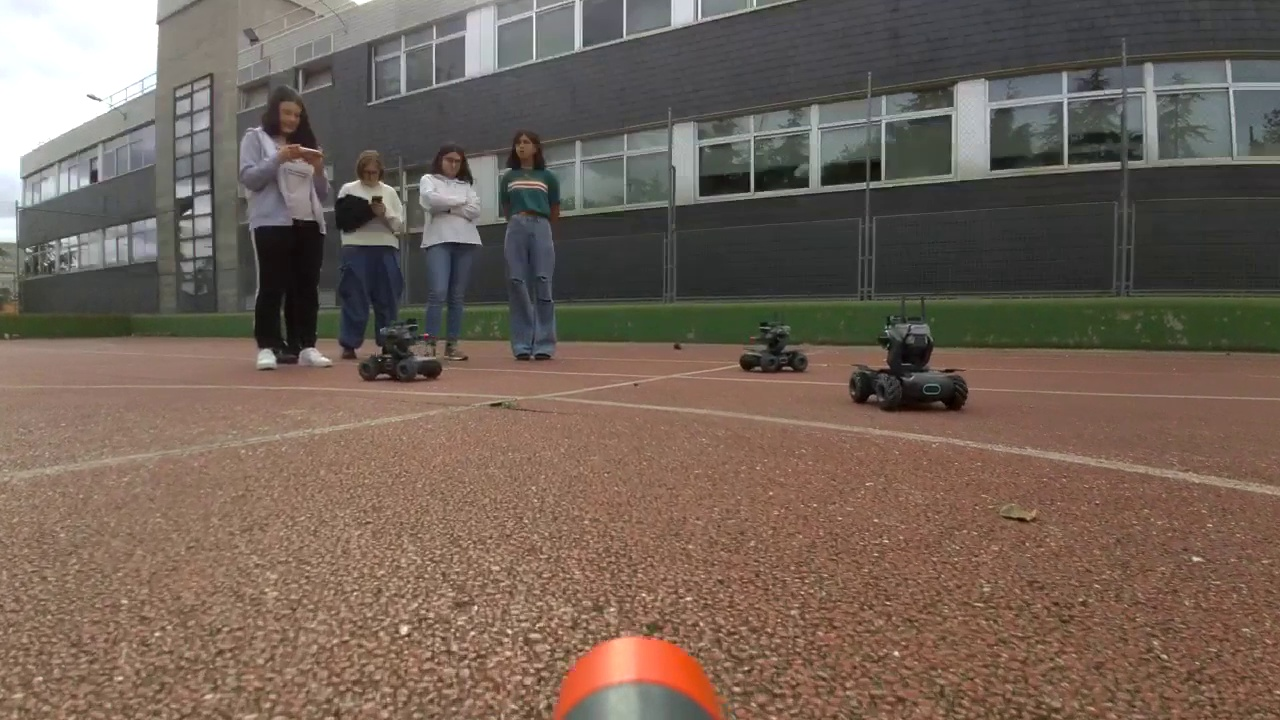robot: (849, 318, 968, 412), (360, 319, 442, 382), (741, 322, 807, 372)
